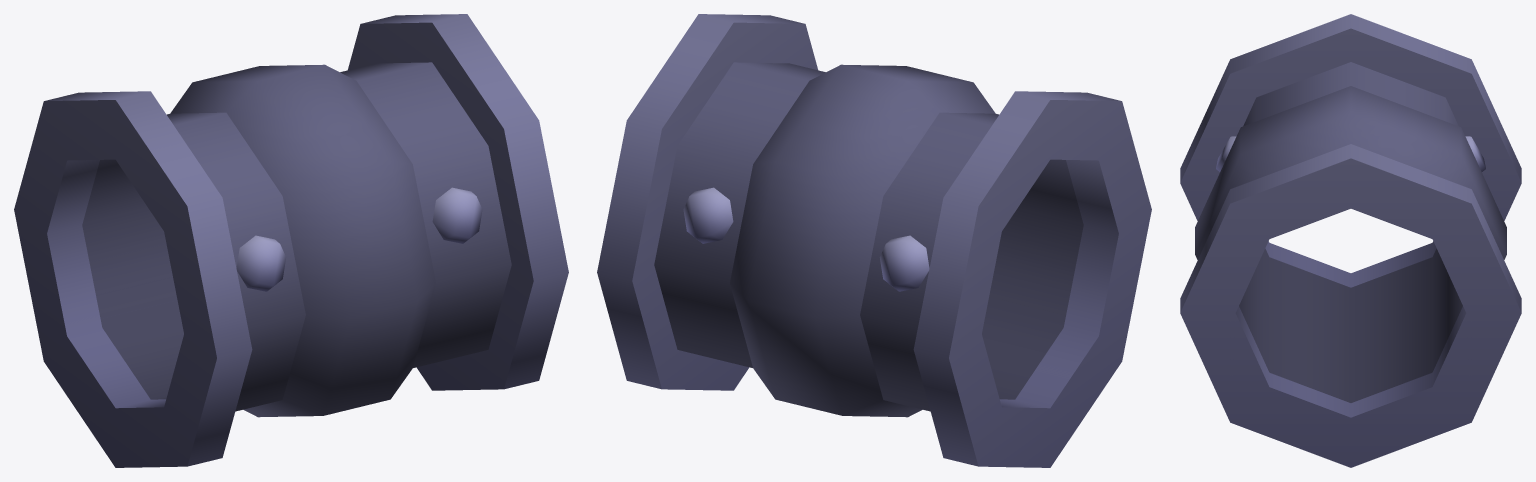
Rendered from cc0-pipe-bump-lod1.glb.
3 views of the same model, side by side, from view 1: azimuth 30°, elevation 25°; view 2: azimuth 150°, elevation 25°; view 3: azimuth 270°, elevation 25° (orthographic). The views are drawn at different scales.
Parts seen in each view (by area): view 1: part_0; view 2: part_0; view 3: part_0.
Boxes of the visible parts, x1,y1,x2,y2 form: part_0: (14, 14, 568, 467); part_0: (597, 14, 1151, 467); part_0: (1180, 14, 1521, 467).
Size of the model in its own units: 1 by 1 by 1.
Materials: 1 (1 with a texture image).
